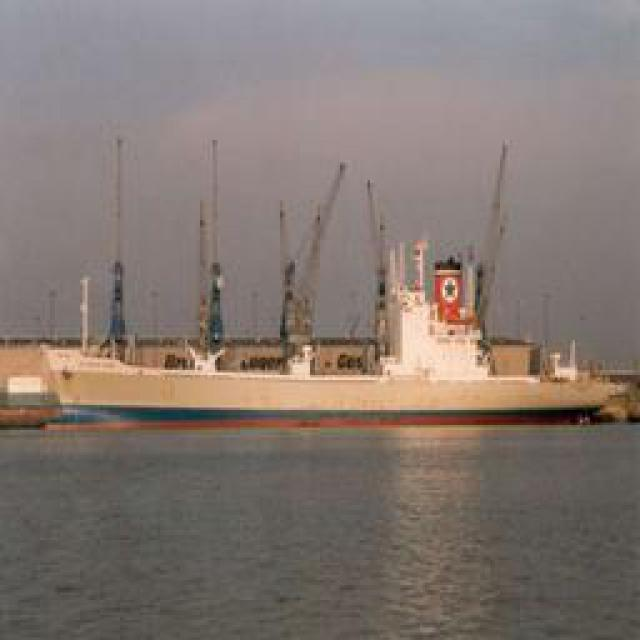Ship: (45, 226, 620, 426)
